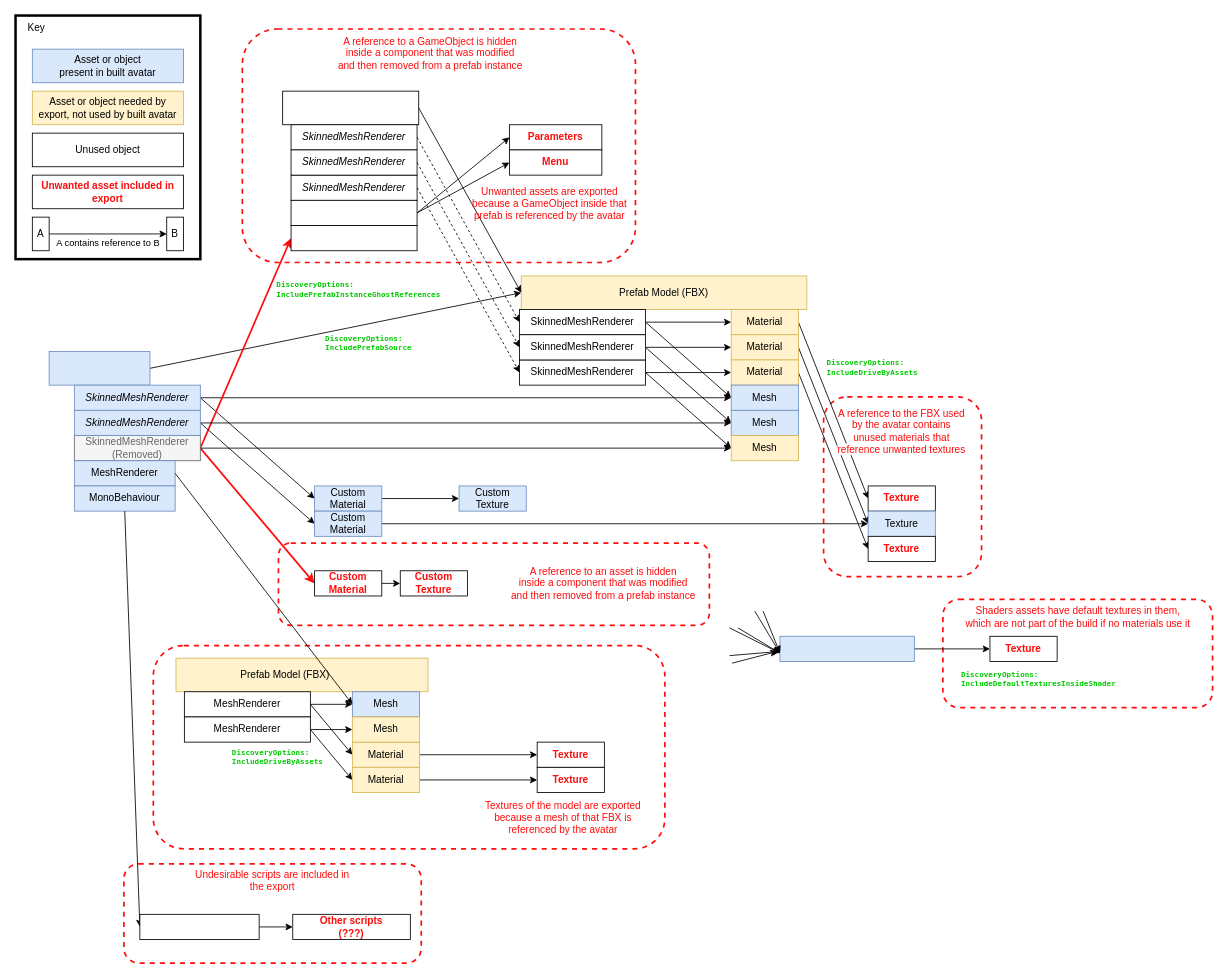
The diagram is 1228 pixels wide and 979 high, and some of its shapes have lost their labels. The centre of each missing label's shape, as x and y in pixels:
Anchor Override GameObject: the point at 353,238
Avatar: the point at 99,368
AvatarDescriptor: the point at 353,213
MonoBehaviour script (.cs) or DLL: the point at 199,927
Official Prefab: the point at 350,107
Shader (required by all Materials): the point at 846,648
